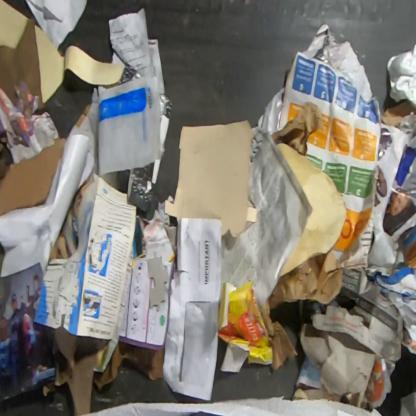cardboard: (164, 119, 258, 238), (0, 134, 68, 218), (218, 280, 274, 374), (51, 326, 99, 415), (127, 156, 162, 214), (160, 93, 174, 149), (49, 235, 69, 260)
